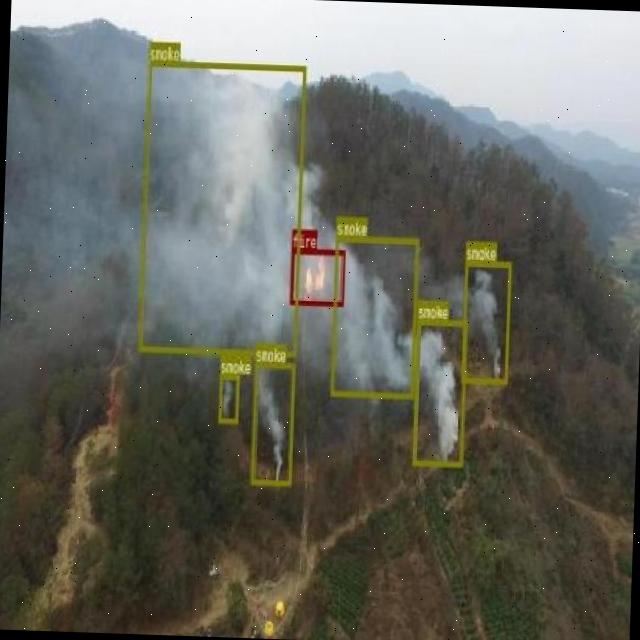fire: (288, 248, 344, 305)
smoke: (137, 60, 306, 356), (330, 234, 418, 398), (411, 318, 467, 466), (461, 260, 511, 384), (250, 361, 294, 484), (217, 374, 239, 424)
